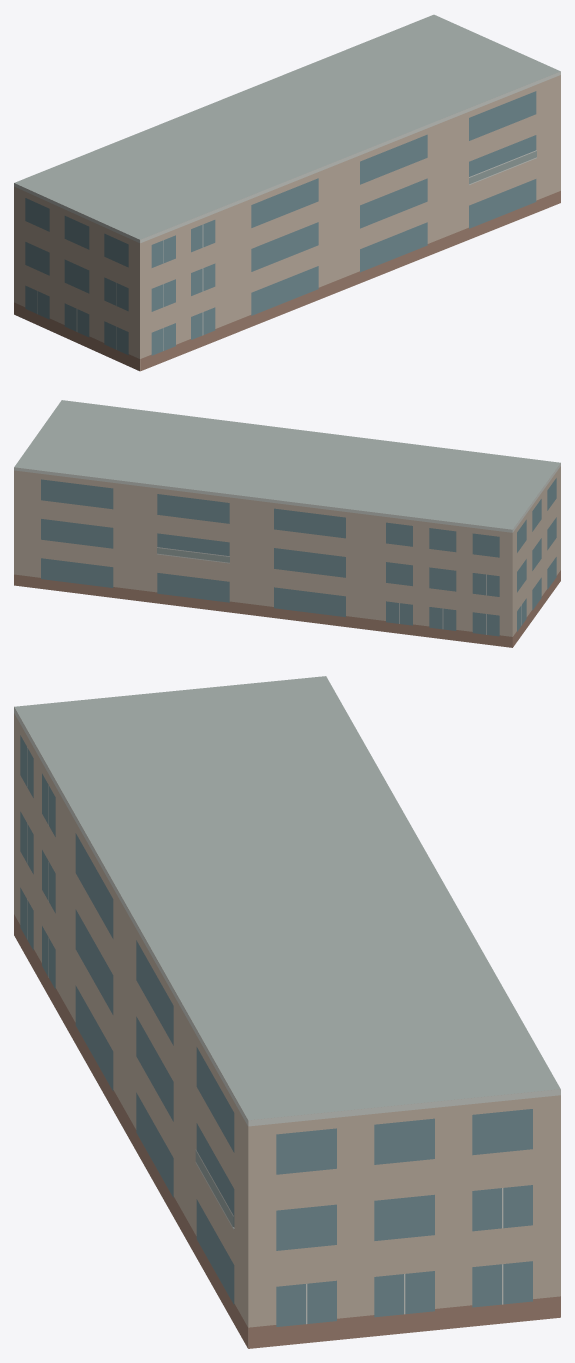
File: survey-upis-32585672.glb
The picture shows the model from 3 angles, top to bottom: view 1: azimuth 30°, elevation 25°; view 2: azimuth 150°, elevation 25°; view 3: azimuth 270°, elevation 25°; orthographic projection. The views are drawn at different scales.
Visible parts, largest first — view 1: survey-upis-32585672.tmp; view 2: survey-upis-32585672.tmp; view 3: survey-upis-32585672.tmp.
Part boxes in pixels (x1,y1,x2,y2): survey-upis-32585672.tmp: [14, 14, 560, 371]; survey-upis-32585672.tmp: [14, 400, 560, 647]; survey-upis-32585672.tmp: [14, 676, 560, 1348].
Bounding box in the file's own units: 38.17 × 9.15 × 19.85.
